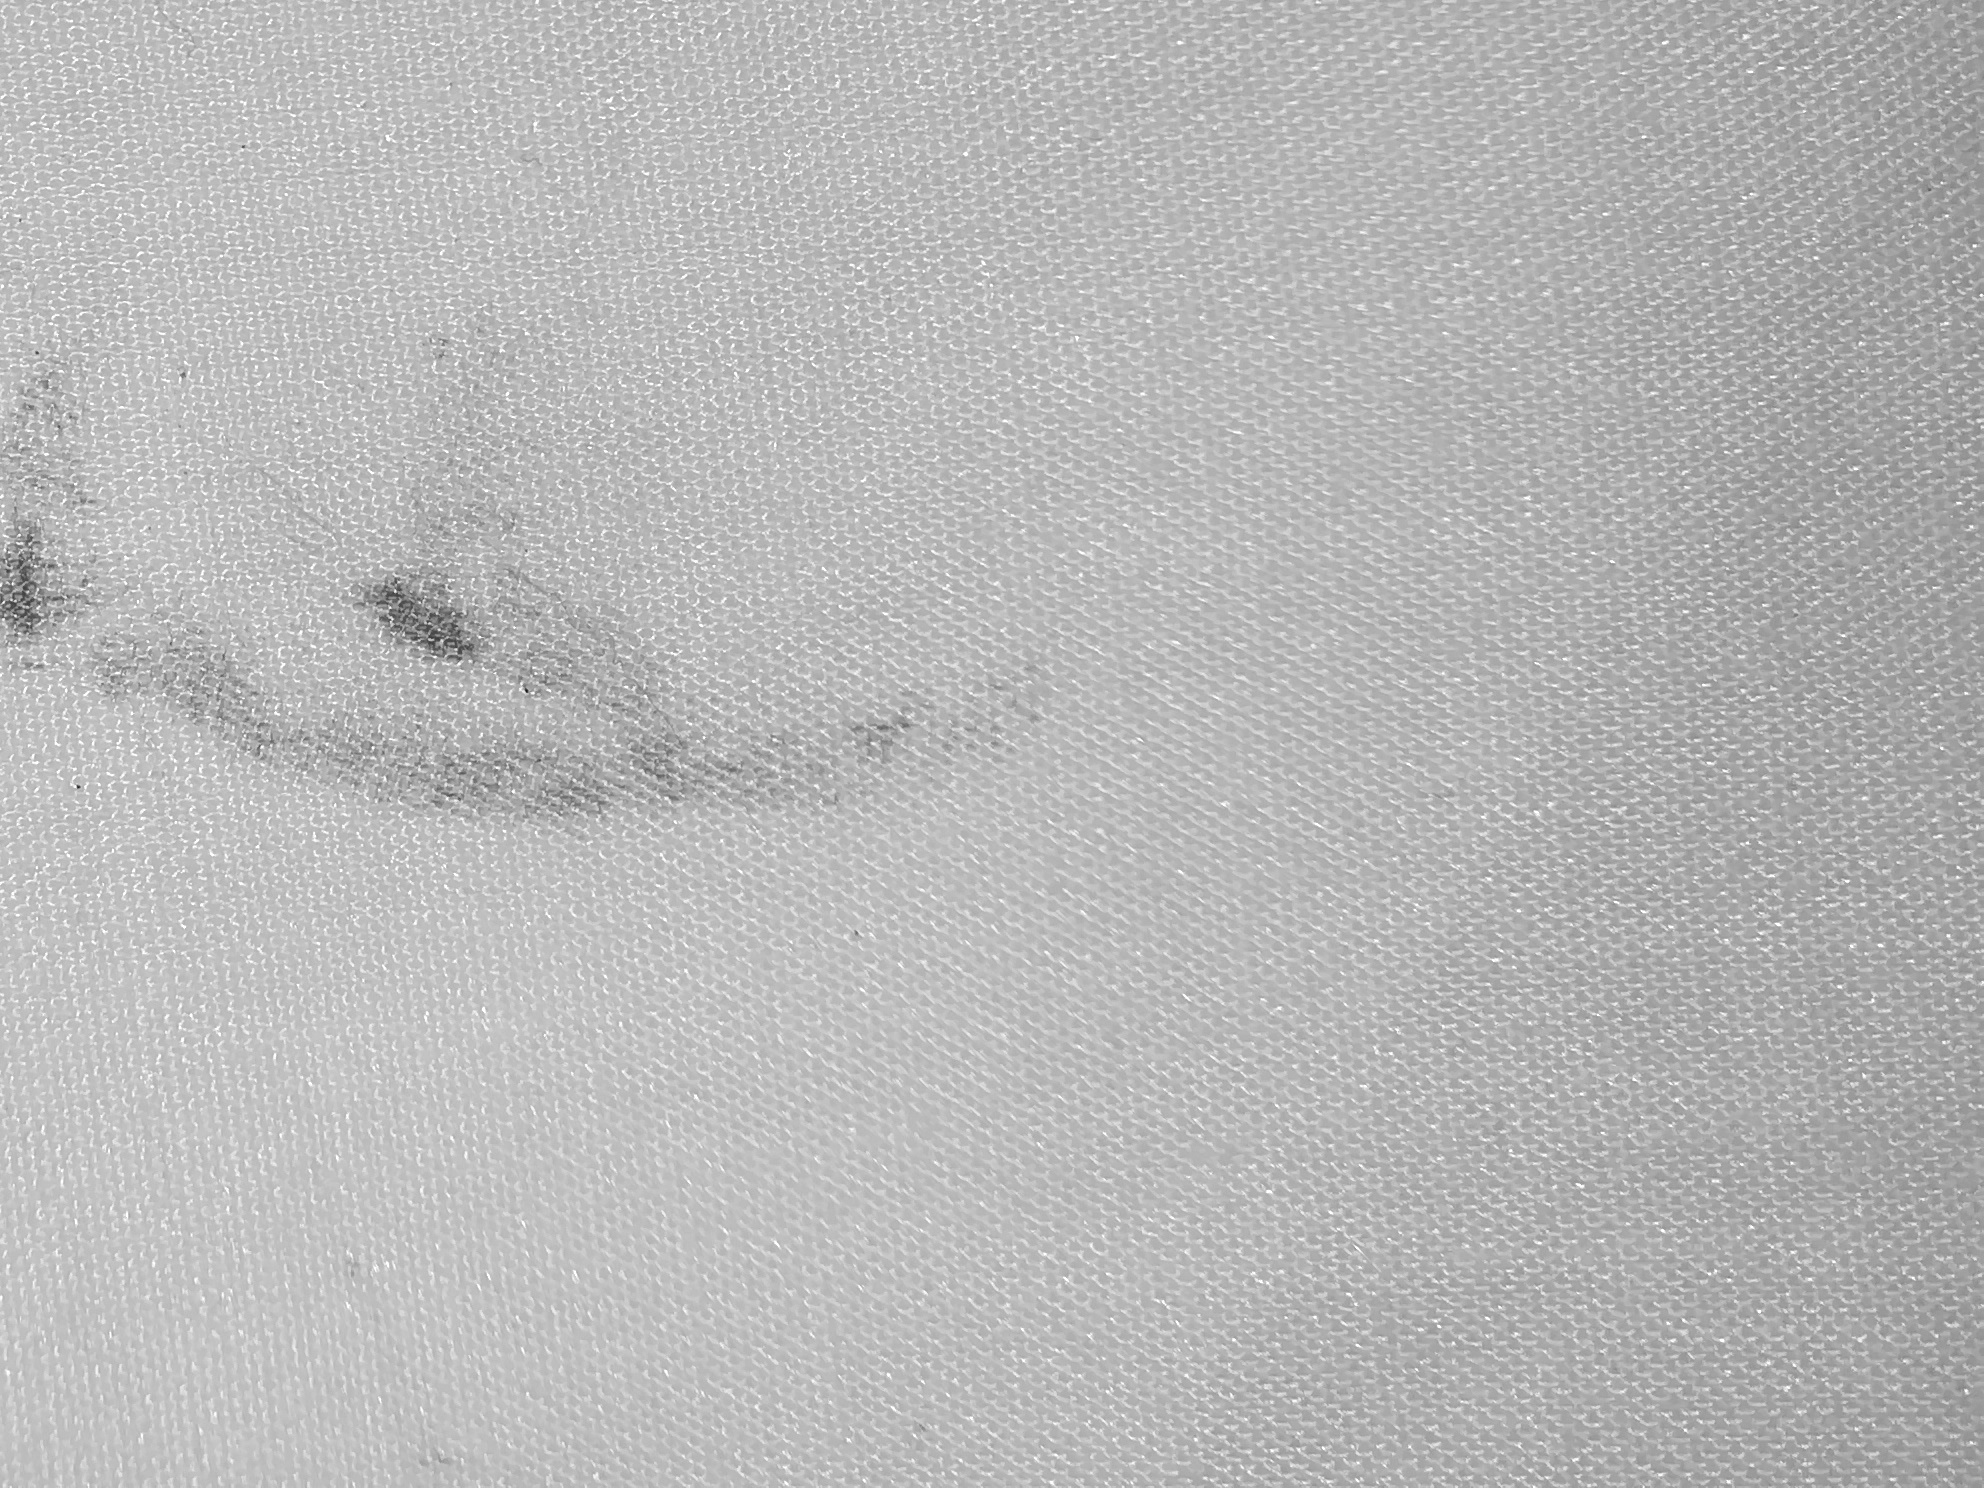Stain: (2, 388, 1148, 853)
